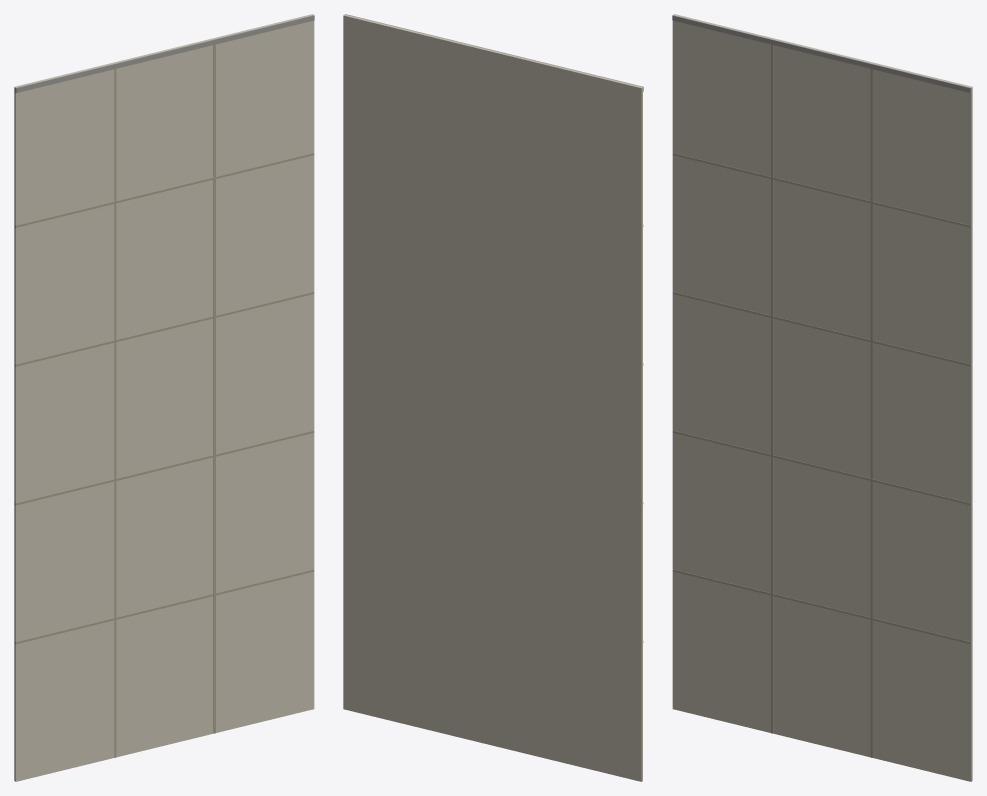
The model's file is tile-panel.glb.
3 renders of one model, left to right at view 1: azimuth 30°, elevation 25°; view 2: azimuth 150°, elevation 25°; view 3: azimuth 330°, elevation 25°, orthographic.
Parts seen in each view (by area): view 1: enamel, plastic-light, brushed; view 2: enamel; view 3: enamel, plastic-light, brushed.
Part boxes in pixels (bbox=[...]): enamel: bbox=[14, 14, 314, 781]; plastic-light: bbox=[15, 39, 314, 757]; brushed: bbox=[15, 15, 314, 92]; enamel: bbox=[343, 14, 642, 781]; enamel: bbox=[672, 14, 972, 781]; plastic-light: bbox=[672, 39, 971, 757]; brushed: bbox=[672, 15, 971, 92].
Bounding box in the file's own units: 0.9 × 2 × 0.011.
